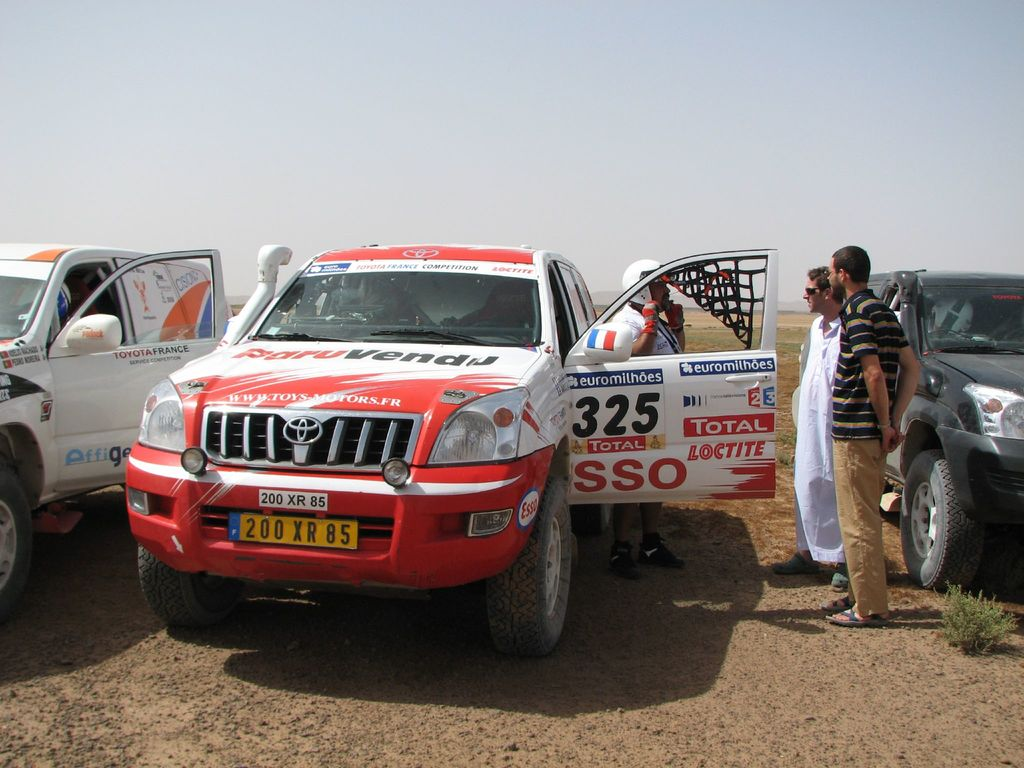Car: (120, 237, 777, 657), (0, 236, 235, 618), (866, 268, 1023, 588)
